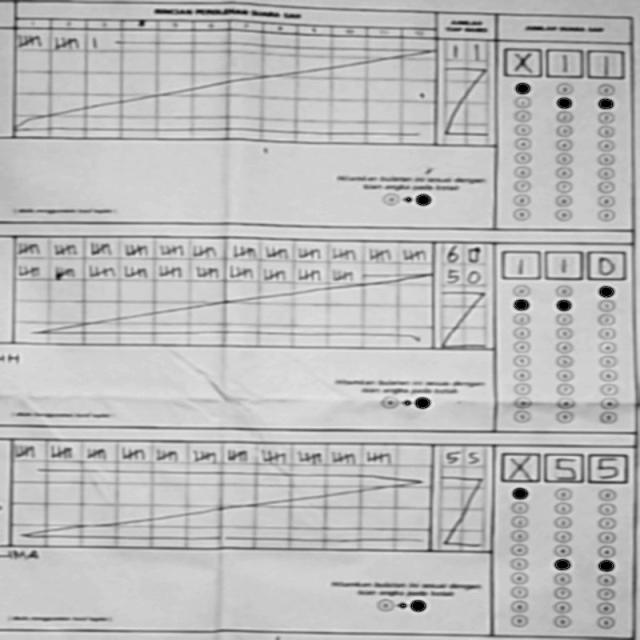Suara: (498, 242, 628, 284), (498, 448, 630, 487), (497, 41, 628, 80)
